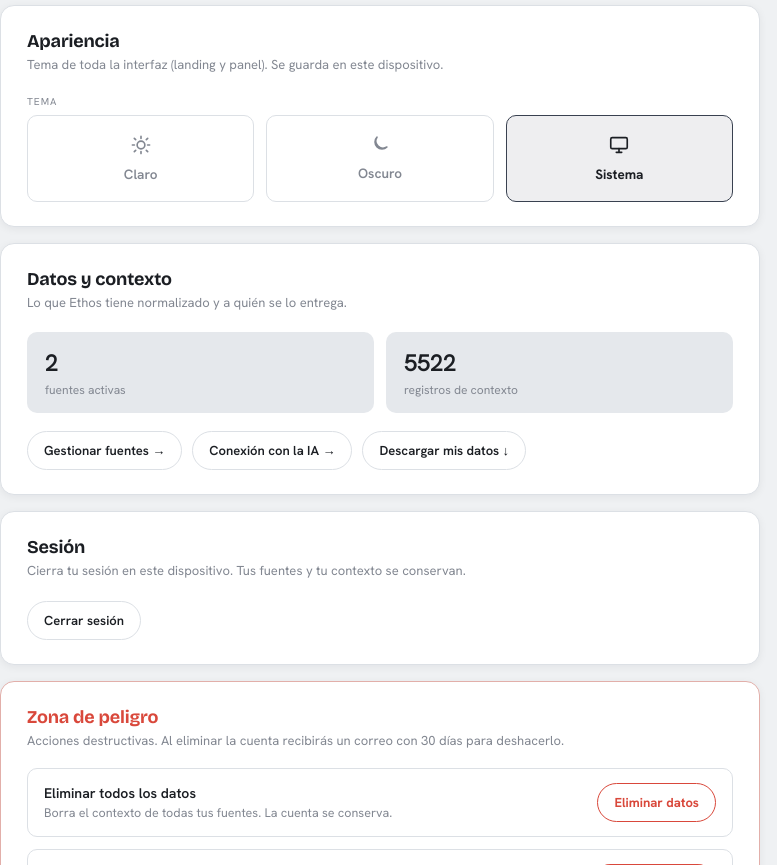
Test case: Settings › exporta el contexto de las fuentes activas
(page scrolled)
Click the button "Descargar mis datos ↓" at (444, 450), box [362, 431, 526, 470]
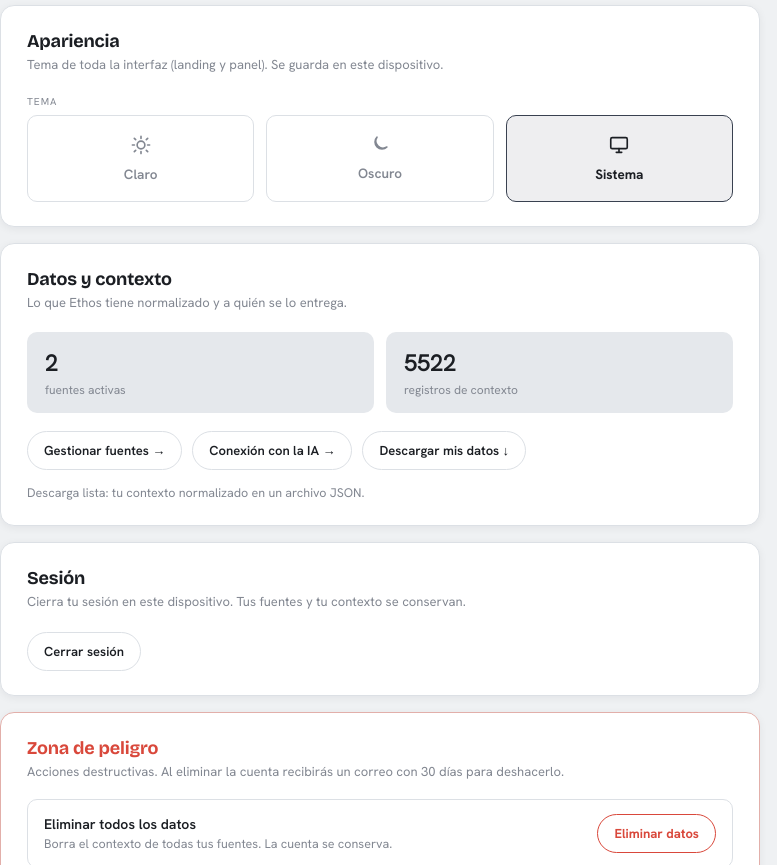
expect the text "Descarga lista: tu contexto normalizado en un archivo JSON." is shown: met, box [27, 484, 364, 501]
